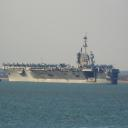Portanaves: (2, 33, 121, 86)
